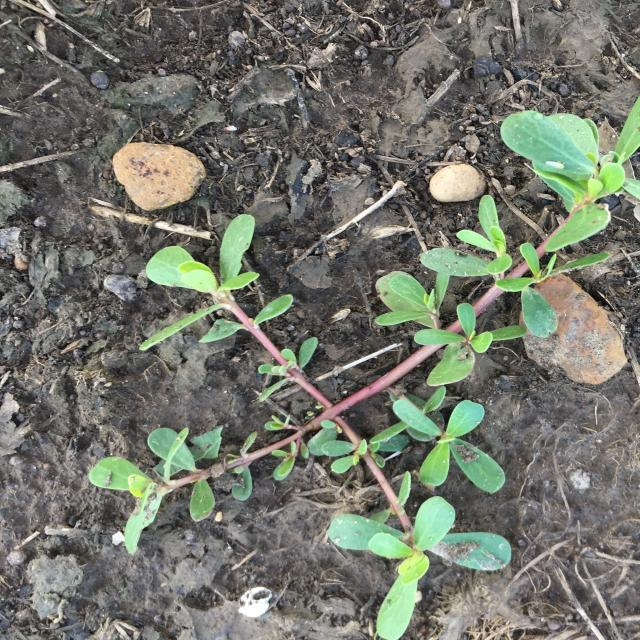Purslane: (89, 97, 640, 639)
